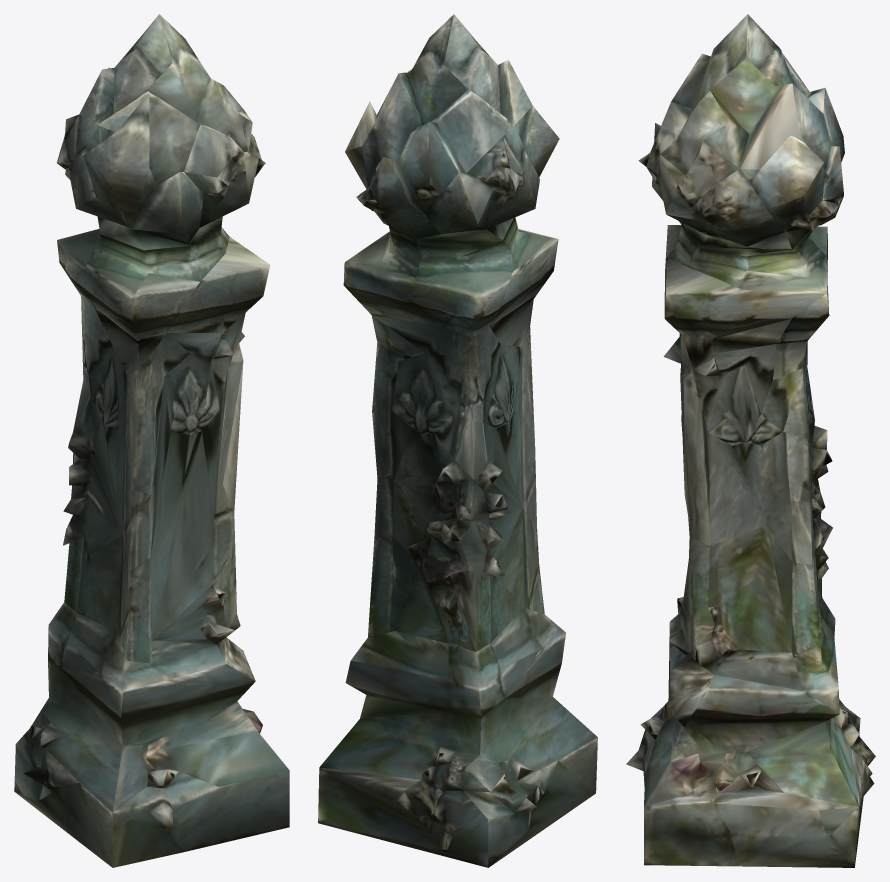
Rendered from post.glb.
3 views of the same model, side by side, from view 1: azimuth 30°, elevation 25°; view 2: azimuth 150°, elevation 25°; view 3: azimuth 270°, elevation 25° (orthographic). The views are drawn at different scales.
Visible parts, largest first — view 1: tripo_node_f17dde0f-505c-4ad3-9ea7-29b75c83d854; view 2: tripo_node_f17dde0f-505c-4ad3-9ea7-29b75c83d854; view 3: tripo_node_f17dde0f-505c-4ad3-9ea7-29b75c83d854.
Boxes of the visible parts, x1,y1,x2,y2 form: tripo_node_f17dde0f-505c-4ad3-9ea7-29b75c83d854: [14, 14, 289, 867]; tripo_node_f17dde0f-505c-4ad3-9ea7-29b75c83d854: [318, 14, 597, 867]; tripo_node_f17dde0f-505c-4ad3-9ea7-29b75c83d854: [626, 14, 875, 867].
Size of the model in its own units: 0.2523 by 0.9775 by 0.2725.
1 material, 1 textured.
